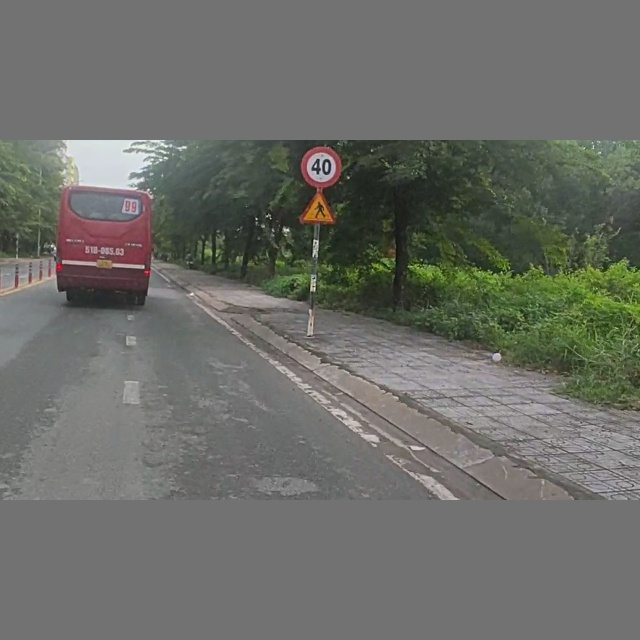P.127*40: (305, 145, 345, 187)
W.224: (299, 192, 337, 224)
